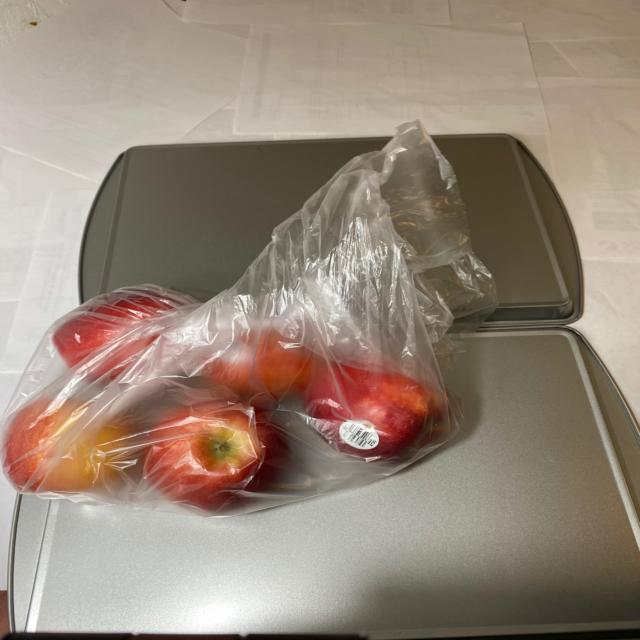apple: (5, 274, 463, 515)
